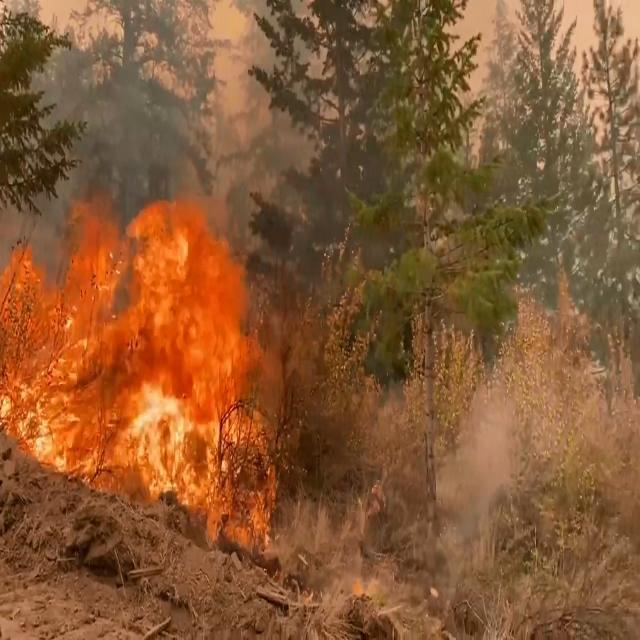Fire: (2, 184, 276, 536)
